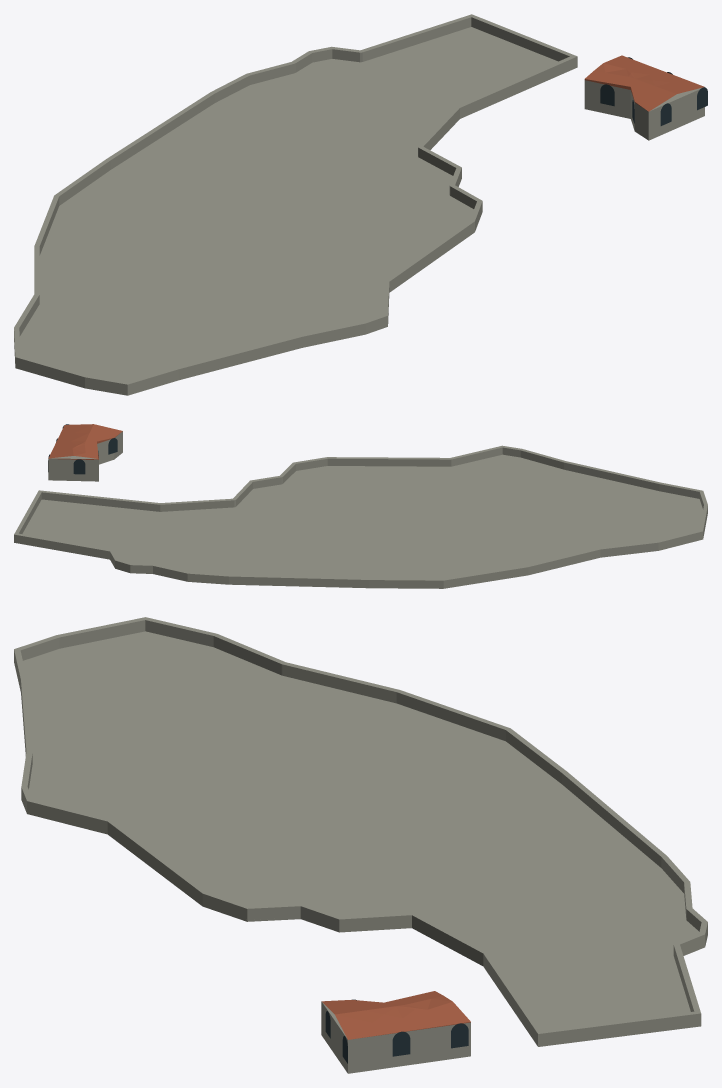
File: turo-rovira.glb
The picture shows the model from 3 angles, top to bottom: view 1: azimuth 30°, elevation 25°; view 2: azimuth 150°, elevation 25°; view 3: azimuth 270°, elevation 25°; orthographic projection. The views are drawn at different scales.
Parts seen in each view (by area): view 1: battery-platform, surviving-battery-boundaries, officers-pavilion, roof, facade-windows; view 2: battery-platform, surviving-battery-boundaries, roof, officers-pavilion, facade-windows; view 3: battery-platform, surviving-battery-boundaries, roof, officers-pavilion, facade-windows.
Part boxes in pixels (<box>): battery-platform: <box>14,27,577,395</box>; surviving-battery-boundaries: <box>14,14,577,394</box>; officers-pavilion: <box>584,80,704,140</box>; roof: <box>584,55,704,111</box>; facade-windows: <box>600,57,707,125</box>; battery-platform: <box>14,454,707,588</box>; surviving-battery-boundaries: <box>14,445,707,587</box>; roof: <box>48,424,122,459</box>; officers-pavilion: <box>48,431,122,481</box>; facade-windows: <box>48,424,117,474</box>; battery-platform: <box>14,631,707,1046</box>; surviving-battery-boundaries: <box>14,617,707,1045</box>; roof: <box>322,991,470,1039</box>; officers-pavilion: <box>321,1001,470,1073</box>; facade-windows: <box>325,999,468,1063</box>.
Bounding box in the file's own units: 16 × 0.671 × 10.54.
